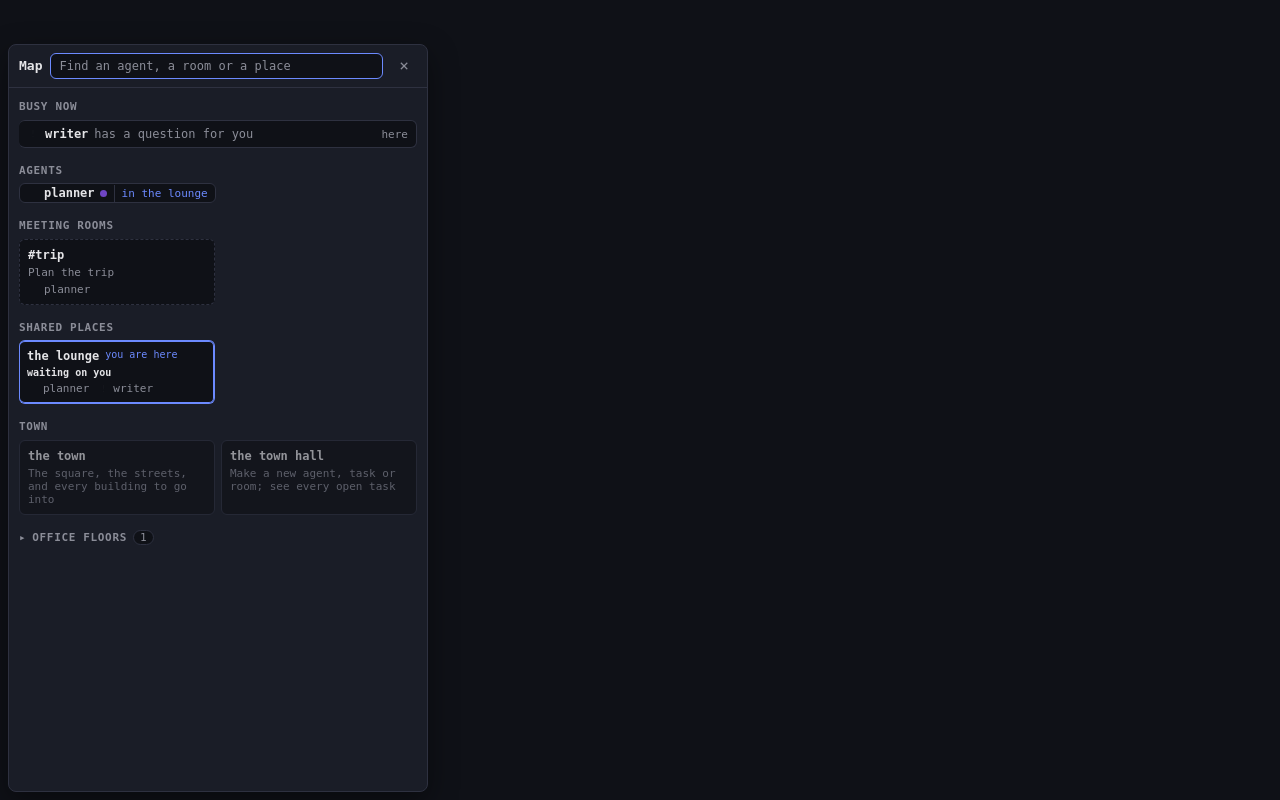
Test: WorldMap › keeps the town and the town hall in view, and folds the office's floors away until asked for
Expected: the button with class "world-map-place" shows "Make a new agent, task or room", [221,440,417,515]
Expected: the button with class "world-map-place" shows "every building", [19,440,215,515]
Step 1. Click the button with class "world-map-fold" → (86,538), box [19,528,154,547]
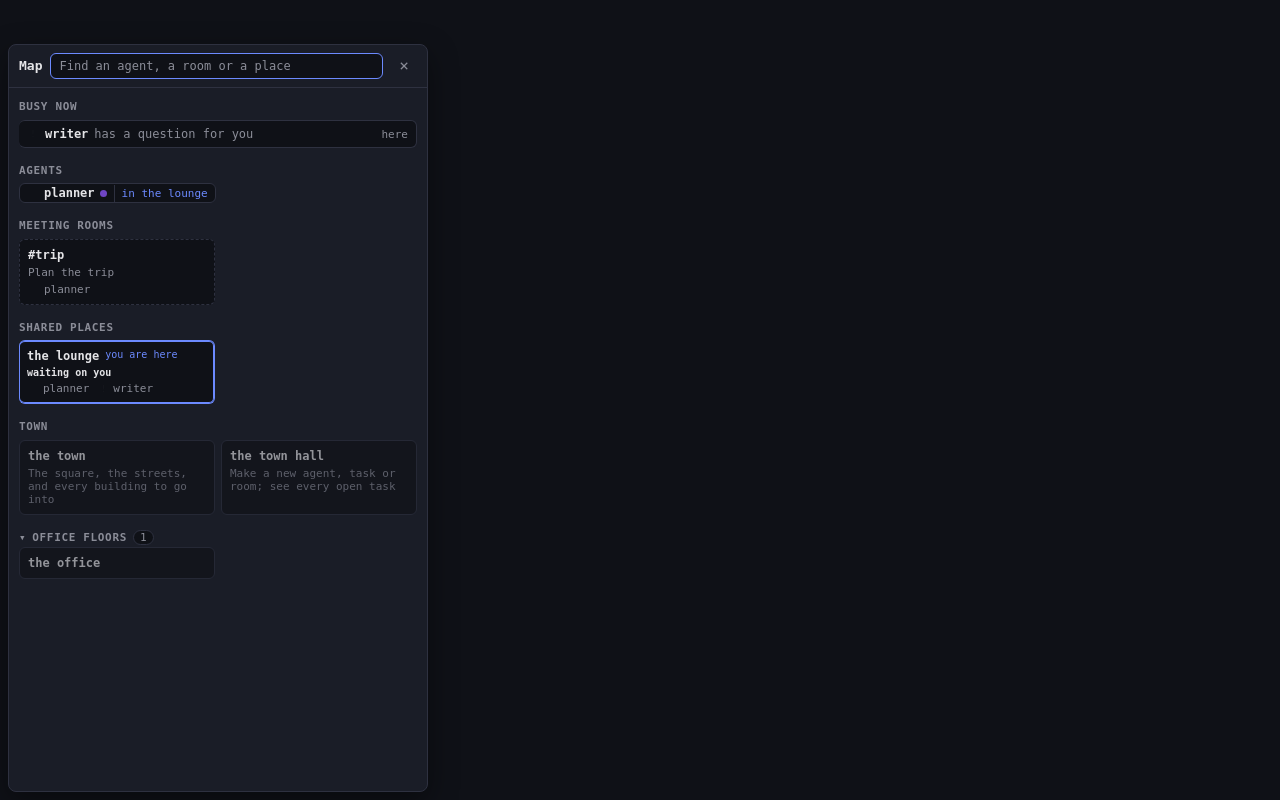
Now the button with class "world-map-office" reads "the office", box [19,547,215,579]
